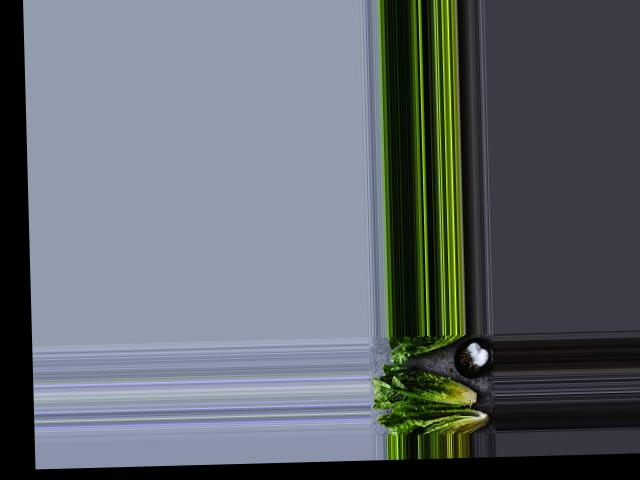lettuce: (386, 404, 495, 435)
